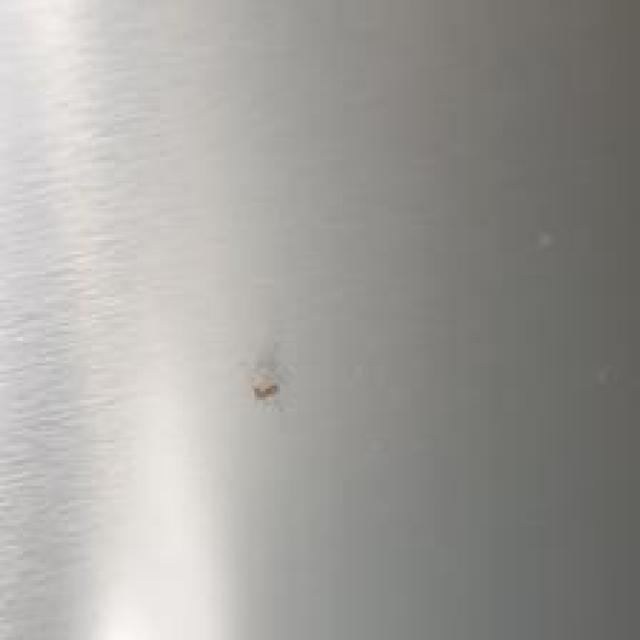Culex: (246, 340, 294, 411)
